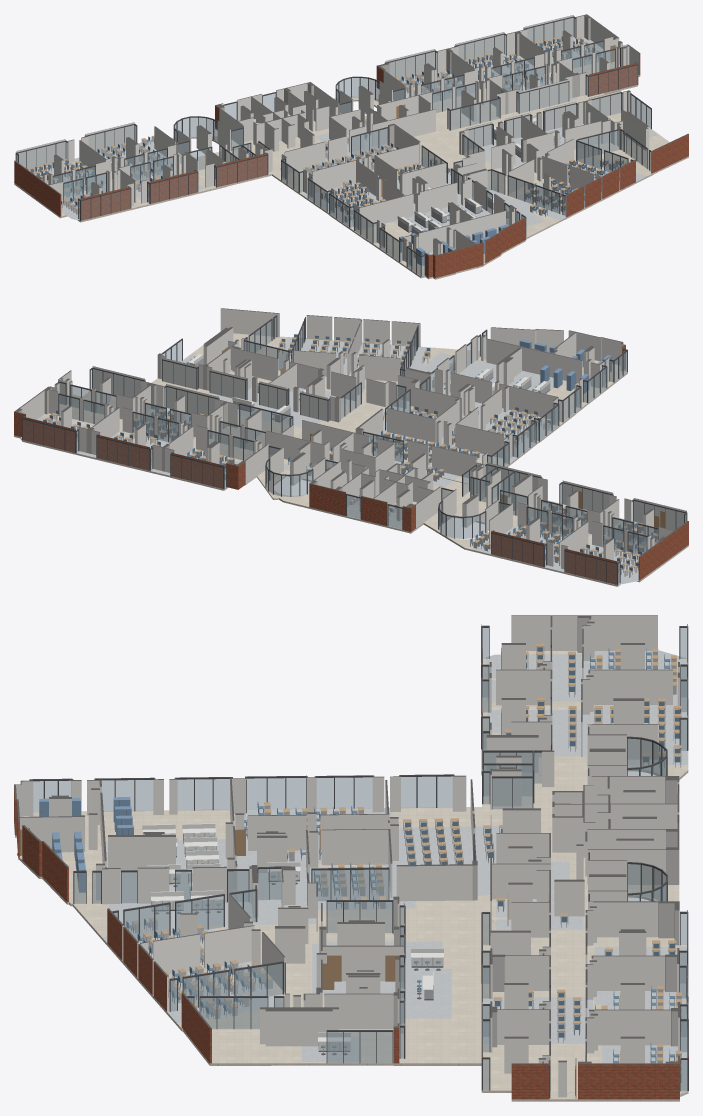
The model's file is campus.glb.
3 renders of one model, top to bottom at view 1: azimuth 30°, elevation 25°; view 2: azimuth 150°, elevation 25°; view 3: azimuth 270°, elevation 25°, orthographic. The views are drawn at different scales.
Parts seen in each view (by area): view 1: P5_Walls, P5_Glass, P5_Floor_Slab, P5_Glass_Mullions, P5_Floor_Zones, P5_Glass_Frames_Top, P5_Columns, P5_Furniture_2_1, P5_Furniture_0_3, P5_Furniture_3_3, P5_Furniture_1_2, P5_Furniture_1_1 (+2 smaller); view 2: P5_Walls, P5_Glass, P5_Floor_Slab, P5_Floor_Zones, P5_Glass_Mullions, P5_Glass_Frames_Top, P5_Columns, P5_Furniture_0_3, P5_Furniture_1_2, P5_Furniture_1_1, P5_Furniture_2_1, P5_Furniture_3_3 (+4 smaller); view 3: P5_Walls, P5_Floor_Slab, P5_Glass, P5_Floor_Zones, P5_Glass_Mullions, P5_Columns, P5_Glass_Frames_Top, P5_Furniture_2_1, P5_Furniture_2_2, P5_Furniture_0_3, P5_Furniture_1_1, P5_Furniture_1_2 (+4 smaller).
Part boxes in pixels (box(x1,y1,x2,y2)): P5_Walls: box(14, 15, 688, 277); P5_Glass: box(16, 18, 650, 276); P5_Floor_Slab: box(14, 37, 688, 279); P5_Glass_Mullions: box(15, 18, 651, 276); P5_Floor_Zones: box(14, 37, 657, 233); P5_Glass_Frames_Top: box(16, 16, 651, 256); P5_Columns: box(35, 14, 630, 200); P5_Furniture_2_1: box(431, 169, 584, 253); P5_Furniture_0_3: box(26, 143, 172, 207); P5_Furniture_3_3: box(440, 36, 600, 90); P5_Furniture_1_2: box(305, 141, 386, 222); P5_Furniture_1_1: box(397, 211, 477, 265); P5_Walls: box(17, 308, 688, 584); P5_Glass: box(23, 317, 686, 584); P5_Floor_Slab: box(14, 333, 688, 586); P5_Floor_Zones: box(21, 337, 661, 584); P5_Glass_Mullions: box(22, 315, 687, 585); P5_Glass_Frames_Top: box(22, 315, 687, 563); P5_Columns: box(14, 353, 666, 563); P5_Furniture_0_3: box(518, 515, 654, 577); P5_Furniture_1_2: box(401, 411, 557, 511); P5_Furniture_1_1: box(511, 346, 611, 420); P5_Furniture_2_1: box(330, 338, 546, 394); P5_Furniture_3_3: box(43, 410, 201, 464); P5_Walls: box(14, 615, 688, 1099); P5_Floor_Slab: box(14, 651, 688, 1101); P5_Glass: box(33, 628, 687, 1091); P5_Floor_Zones: box(102, 650, 688, 1094); P5_Glass_Mullions: box(29, 626, 688, 1098); P5_Columns: box(319, 615, 679, 1099); P5_Glass_Frames_Top: box(29, 625, 688, 1065); P5_Furniture_2_1: box(53, 842, 244, 980); P5_Furniture_2_2: box(247, 857, 504, 975); P5_Furniture_0_3: box(536, 643, 681, 743); P5_Furniture_1_1: box(39, 797, 247, 860); P5_Furniture_1_2: box(257, 801, 502, 864).
Size of the model in its own units: 77.07 by 3 by 48.95.
Materials: 19 (4 with a texture image).
